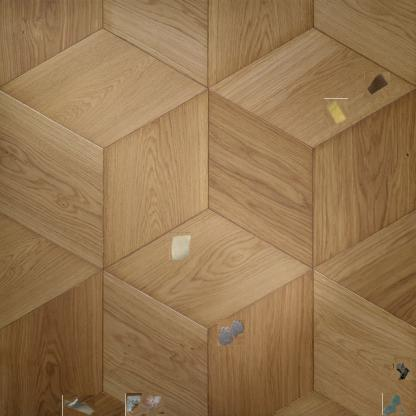dirty: (62, 394, 95, 416), (364, 72, 390, 98), (324, 99, 349, 125), (169, 232, 191, 260), (140, 396, 164, 416), (393, 358, 414, 378), (125, 392, 142, 416)
liquid: (217, 318, 245, 346), (381, 394, 402, 416)
